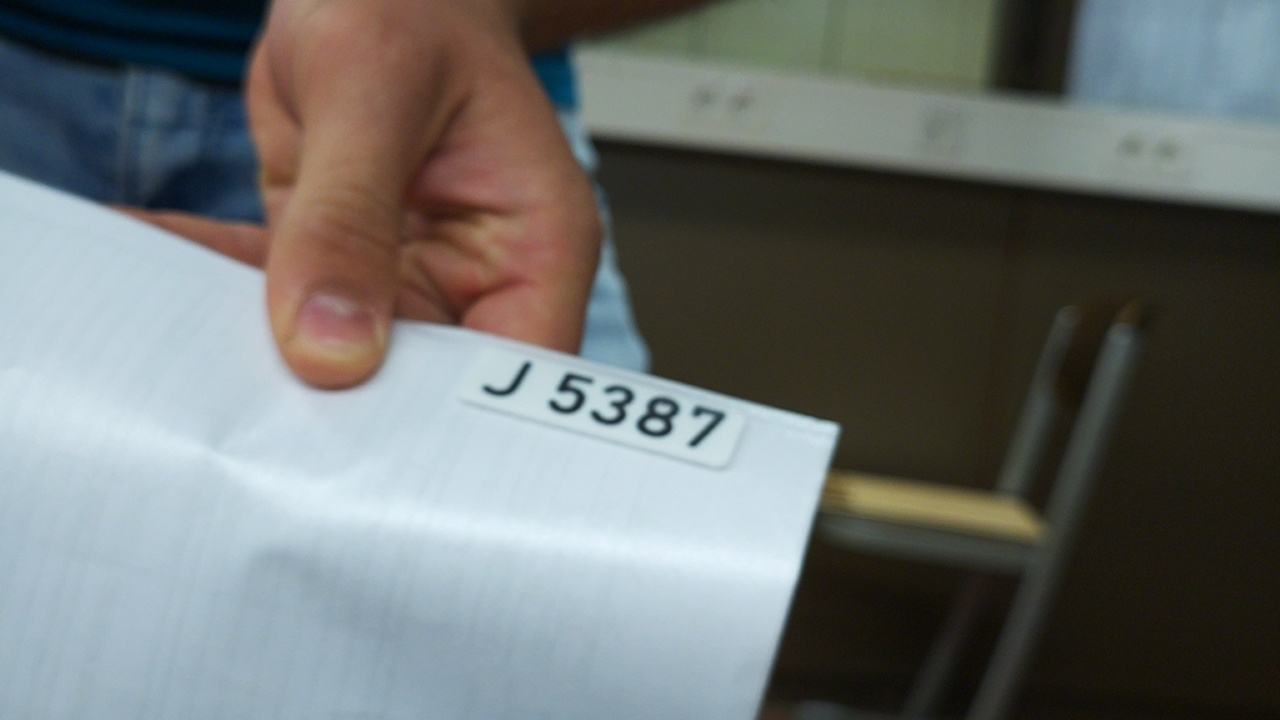license_plate: (458, 342, 751, 473)
